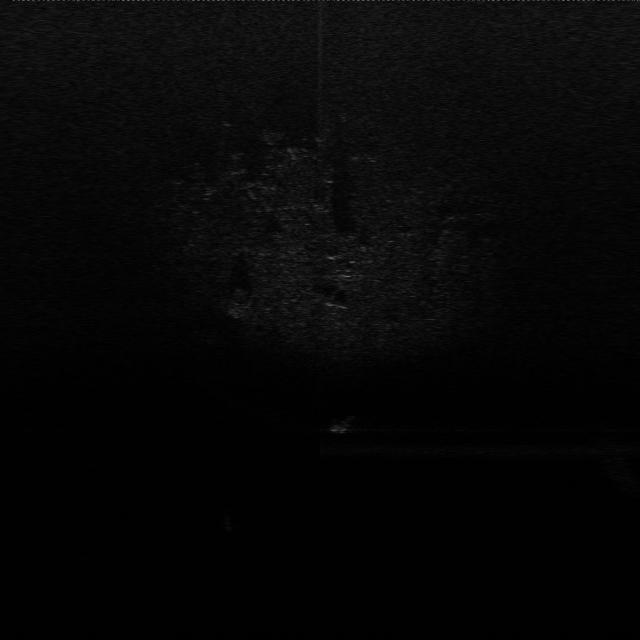square cage: (323, 409, 363, 438)
